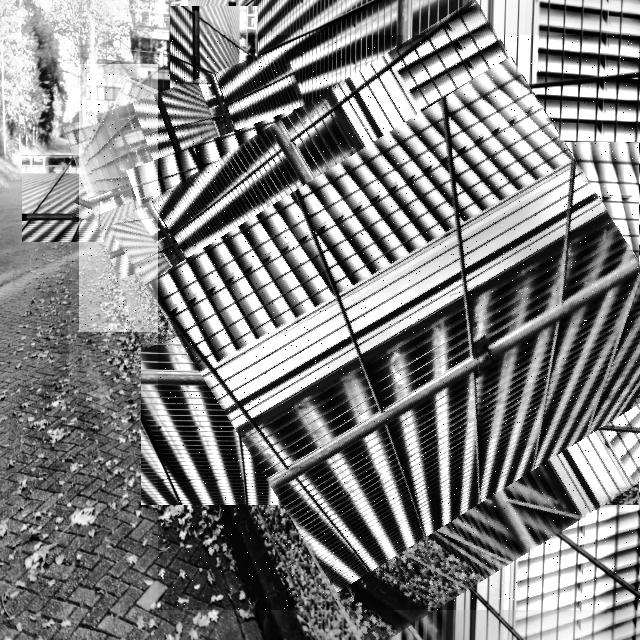fences: (158, 35, 640, 610), (79, 64, 349, 332), (82, 81, 172, 235)
